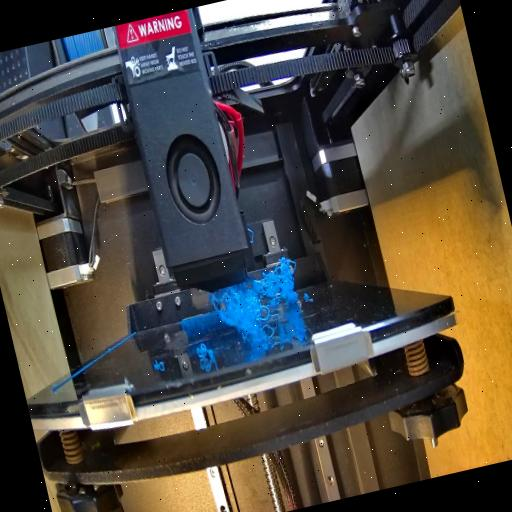spaghetti: (210, 266, 308, 334), (190, 338, 212, 360)
